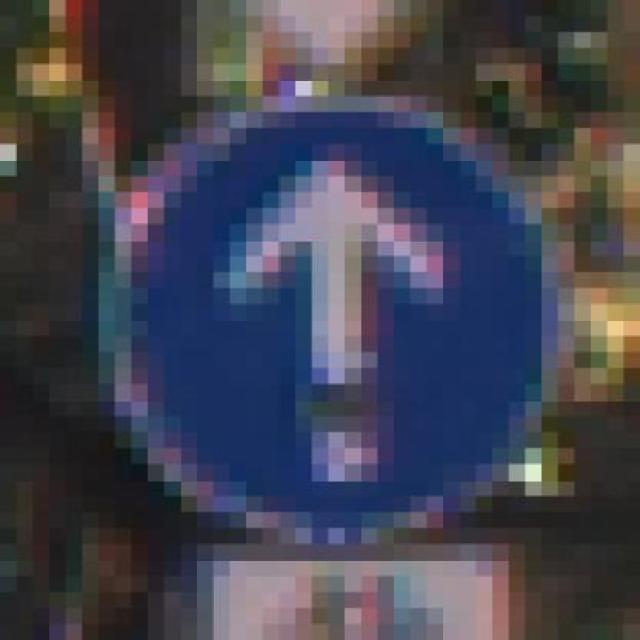Straight Ahead Only: (82, 64, 590, 528)
